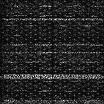lte: (1, 74, 104, 79), (1, 17, 104, 21), (1, 42, 104, 46), (1, 50, 104, 54)
